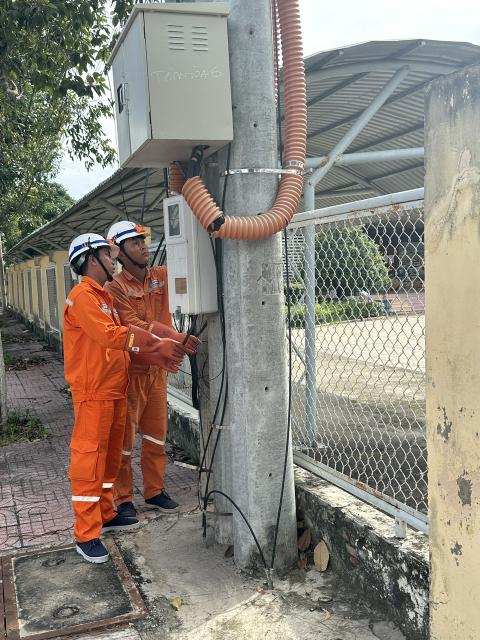gloves: (146, 305, 206, 361), (118, 333, 187, 377), (123, 320, 182, 364), (66, 533, 116, 567), (100, 505, 148, 534), (145, 488, 188, 515), (119, 499, 141, 518)
helmet: (54, 227, 116, 268), (103, 218, 152, 244)
